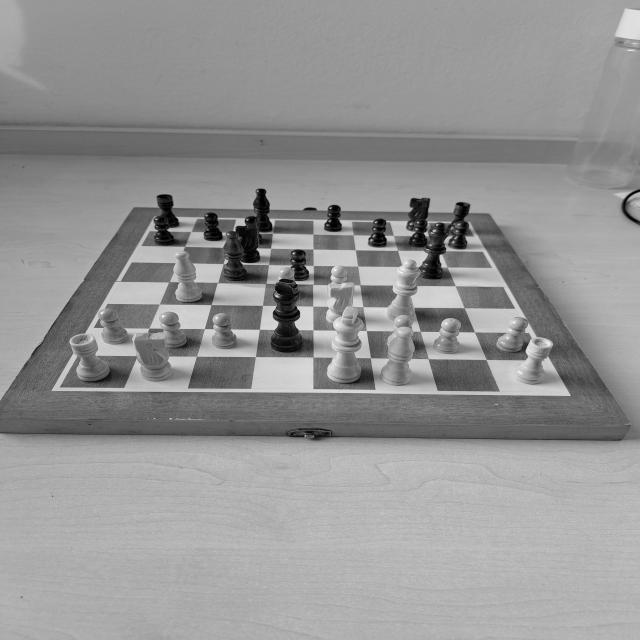chess-table-corners: (47, 377, 76, 397), (547, 382, 575, 402), (150, 213, 160, 220), (466, 220, 473, 225)
